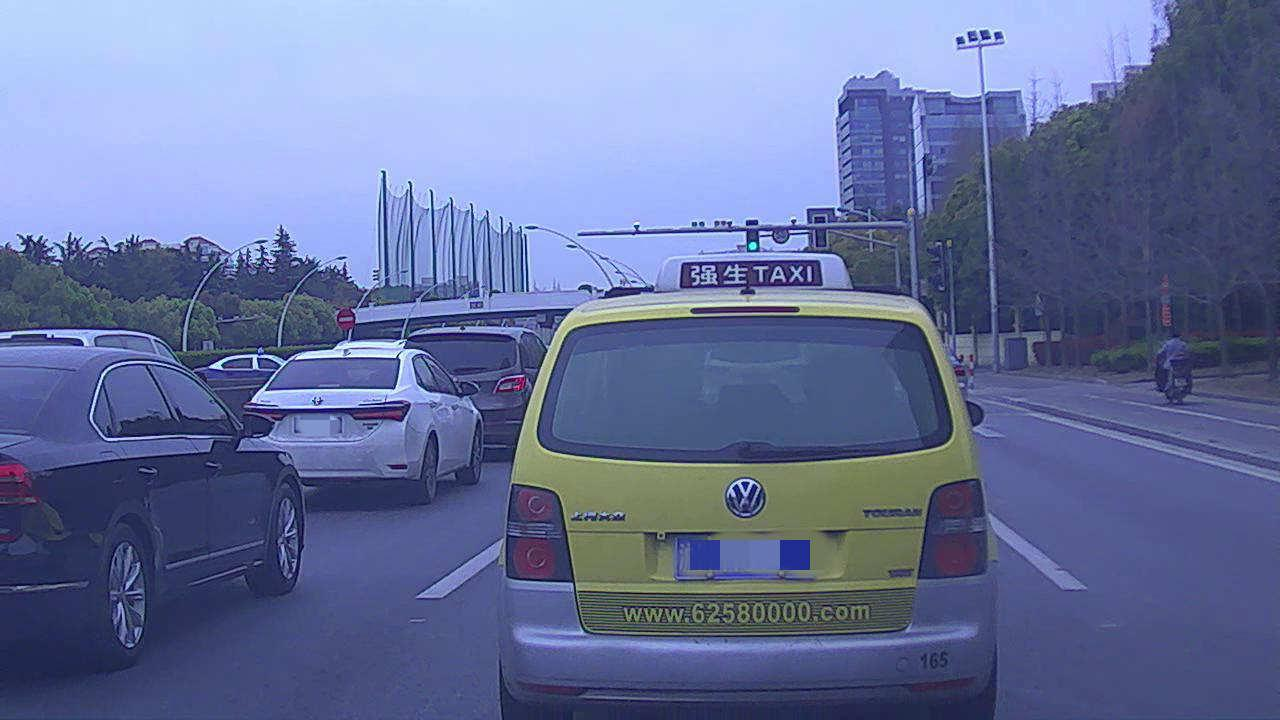traffic_light: (814, 213, 832, 250), (745, 219, 763, 253)
